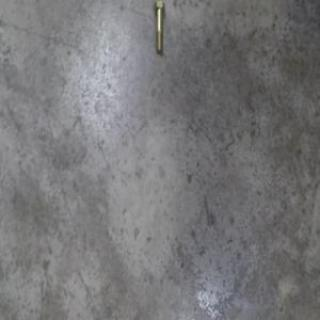Bolttrack_idkeyframe: (153, 6, 167, 57)
